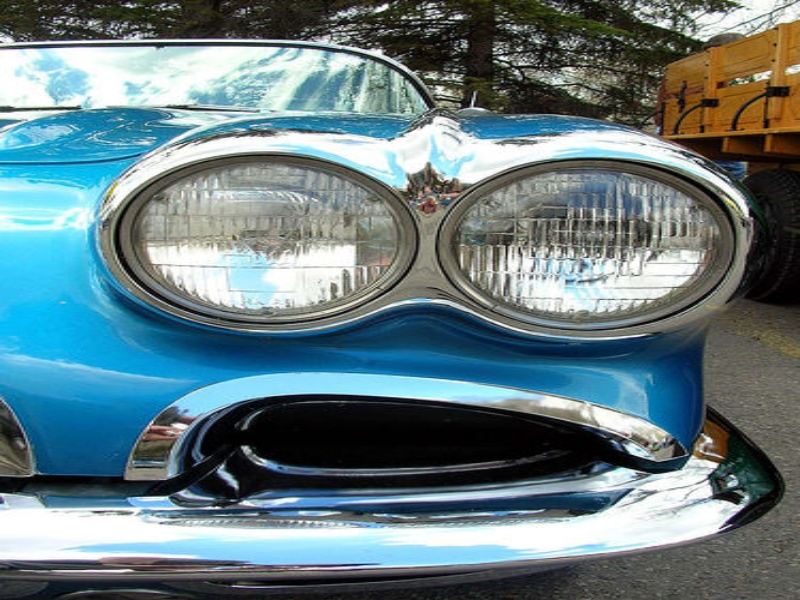car: (1, 38, 784, 600)
